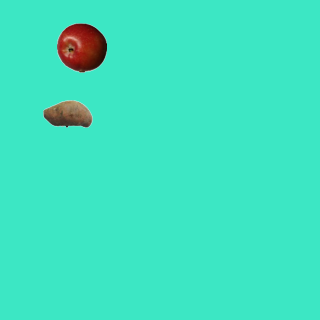Apple Braeburn: (56, 22, 106, 72)
Potato Sweet: (42, 88, 92, 138)
